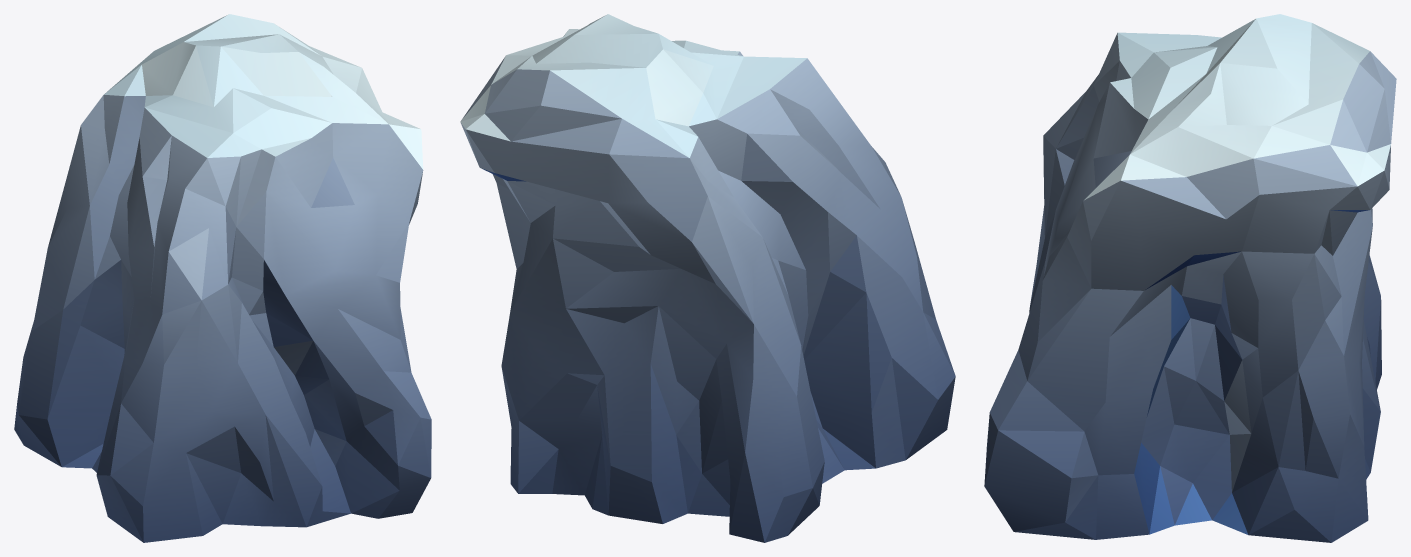
File: SnowHigh-4-col.glb
3 renders of one model, left to right at view 1: azimuth 30°, elevation 25°; view 2: azimuth 150°, elevation 25°; view 3: azimuth 270°, elevation 25°, orthographic. The views are drawn at different scales.
Parts seen in each view (by area): view 1: SnowHigh-4; view 2: SnowHigh-4; view 3: SnowHigh-4.
Boxes of the visible parts, x1,y1,x2,y2 form: SnowHigh-4: [14, 14, 431, 542]; SnowHigh-4: [460, 14, 955, 542]; SnowHigh-4: [984, 14, 1396, 542].
Size of what is drawn, in the model's own units: 14.02 by 16.42 by 13.01.
Materials: 1 (1 with a texture image).
